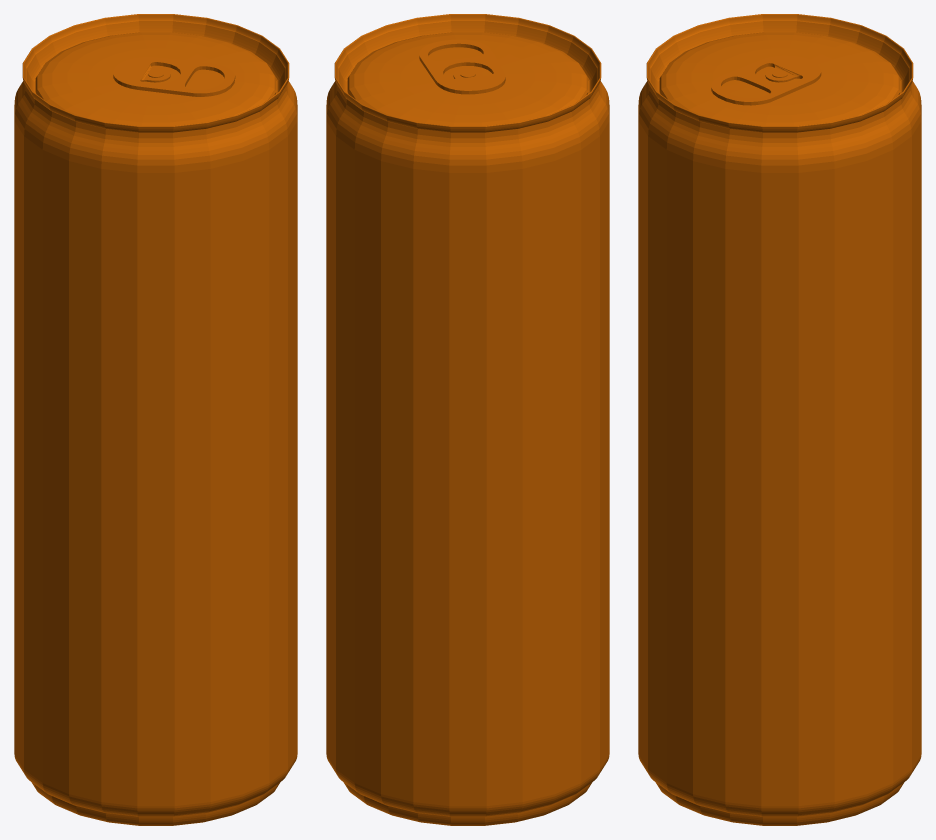
3 renders of one model, left to right at view 1: azimuth 30°, elevation 25°; view 2: azimuth 150°, elevation 25°; view 3: azimuth 270°, elevation 25°, orthographic.
Visible parts, largest first — view 1: mesh1.003_mesh1-geometry, mesh5.003_mesh5-geometry; view 2: mesh1.003_mesh1-geometry, mesh5.003_mesh5-geometry; view 3: mesh1.003_mesh1-geometry, mesh5.003_mesh5-geometry.
Boxes of the visible parts, x1,y1,x2,y2 form: mesh1.003_mesh1-geometry: (14,14,297,825); mesh5.003_mesh5-geometry: (113,57,235,96); mesh1.003_mesh1-geometry: (326,14,609,825); mesh5.003_mesh5-geometry: (419,39,505,94); mesh1.003_mesh1-geometry: (638,14,921,825); mesh5.003_mesh5-geometry: (711,55,821,105).
Size of the model in its own units: 0.3238 by 0.889 by 0.3238.
